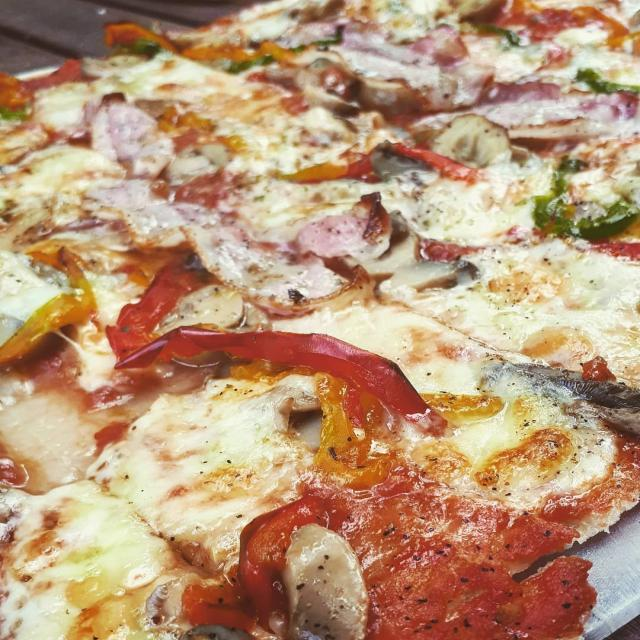mushrooms: (292, 522, 390, 640), (359, 220, 471, 302), (438, 112, 514, 166)
peppers: (122, 323, 437, 434), (212, 492, 322, 640), (0, 241, 93, 371), (281, 136, 462, 194), (113, 256, 194, 350), (541, 174, 629, 236), (1, 58, 80, 103), (101, 25, 187, 64)
pizza: (0, 0, 640, 640)
